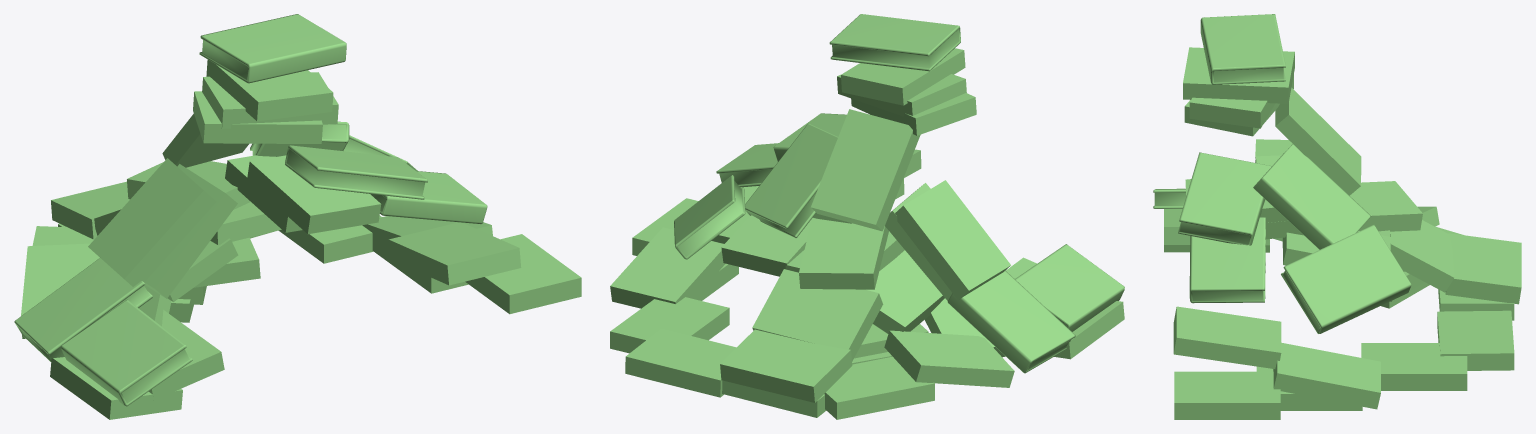
Rendered from Book_Pile_09B_Lod0.fbx.
The picture shows the model from 3 angles, left to right: view 1: azimuth 30°, elevation 25°; view 2: azimuth 150°, elevation 25°; view 3: azimuth 270°, elevation 25°; orthographic projection. The views are drawn at different scales.
Parts seen in each view (by area): view 1: Book_Pile_09B_Lod0; view 2: Book_Pile_09B_Lod0; view 3: Book_Pile_09B_Lod0.
Boxes of the visible parts, x1,y1,x2,y2 form: Book_Pile_09B_Lod0: [14, 14, 581, 419]; Book_Pile_09B_Lod0: [610, 14, 1124, 419]; Book_Pile_09B_Lod0: [1153, 14, 1521, 419].
Bounding box in the file's own units: 147 × 90.09 × 110.
